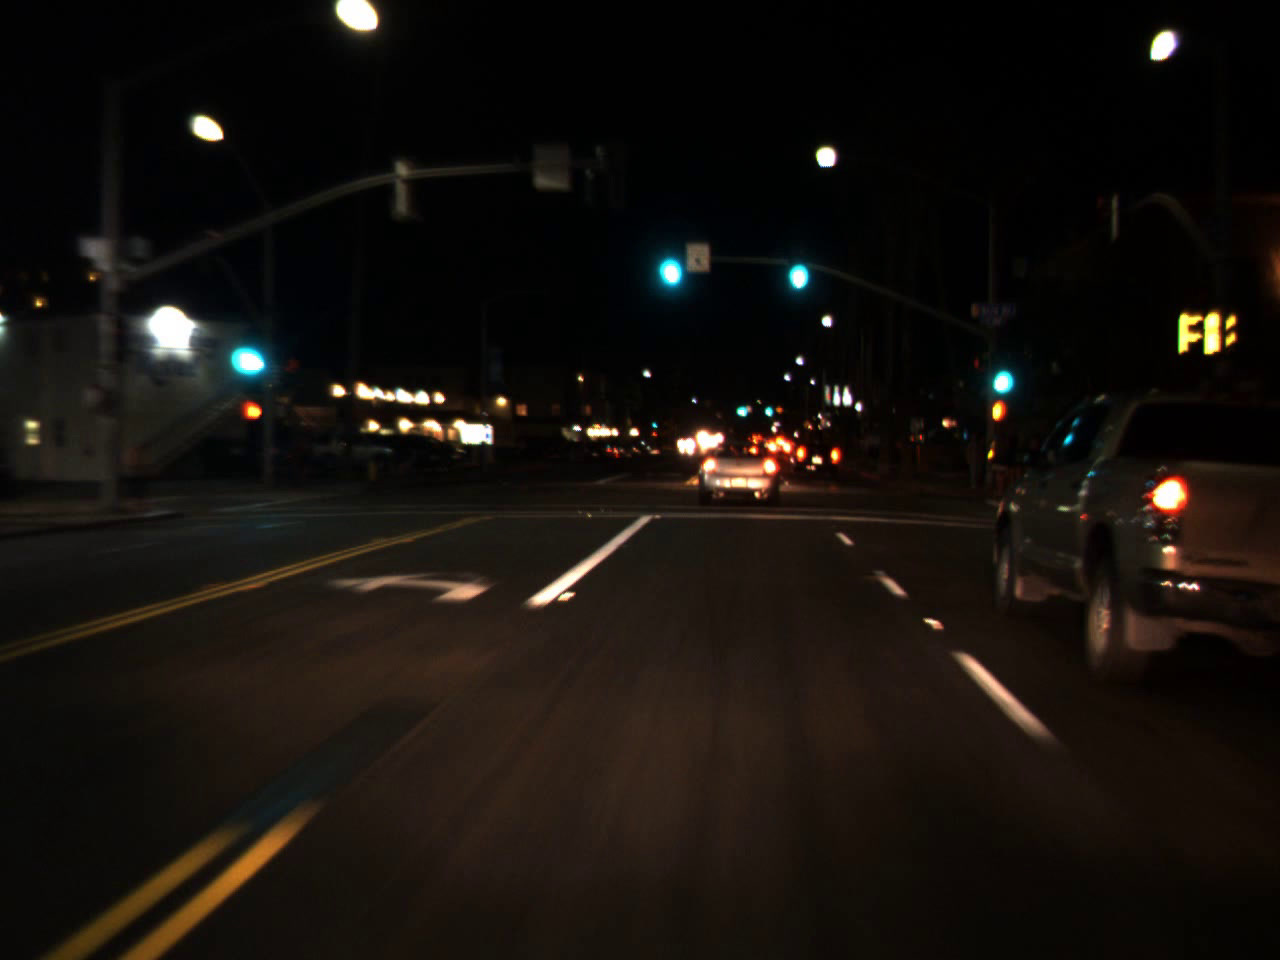go: (219, 310, 271, 388), (649, 222, 686, 297), (781, 234, 813, 297), (986, 340, 1016, 403), (733, 397, 749, 418), (764, 399, 773, 417), (650, 417, 657, 429)
